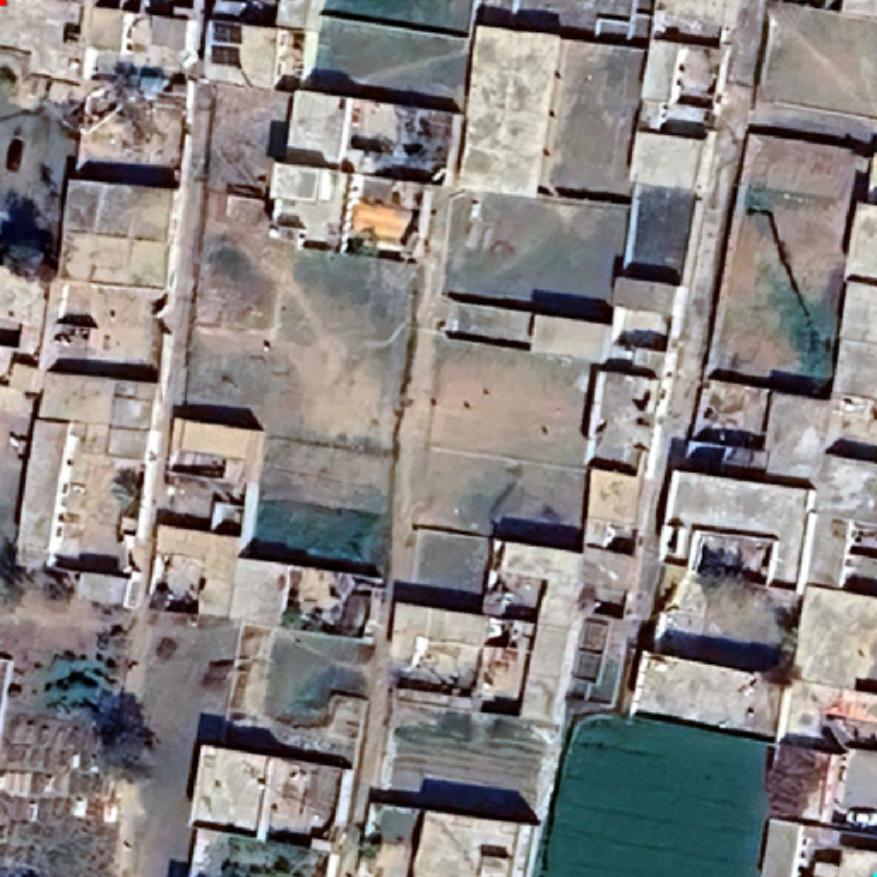Solarpanel: (205, 14, 246, 70)
